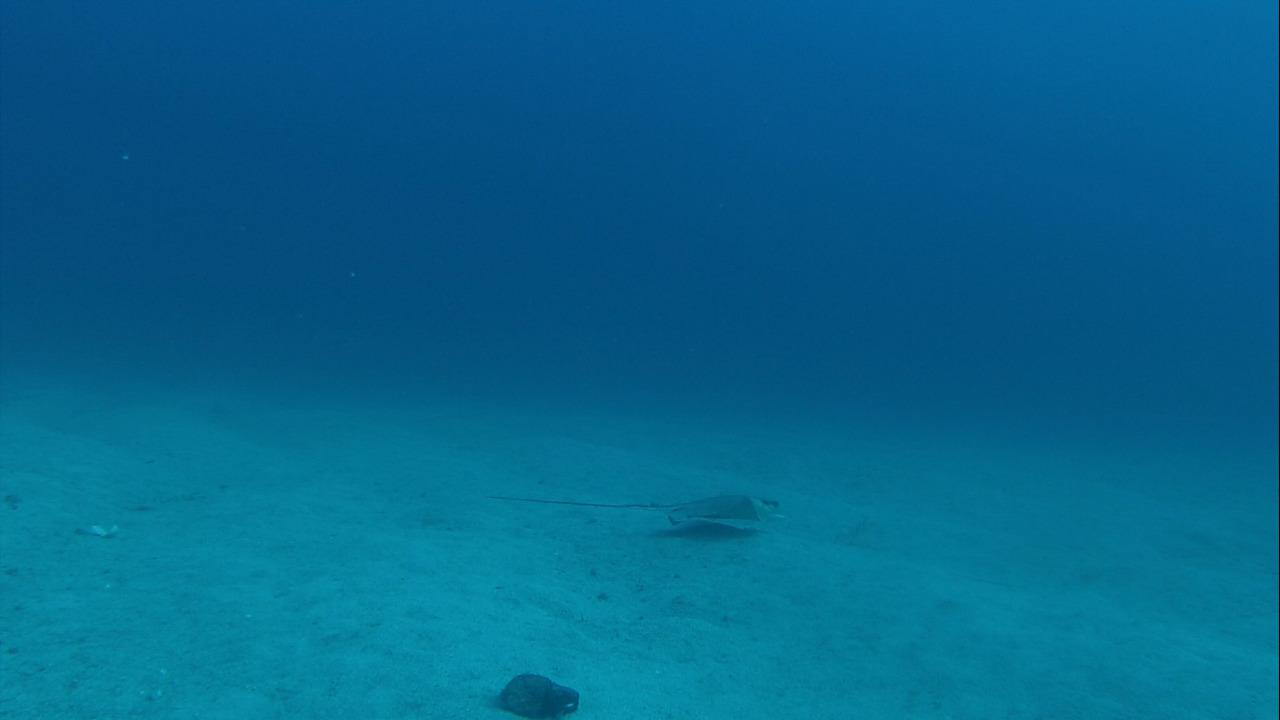myliobatis: (467, 480, 791, 548)
